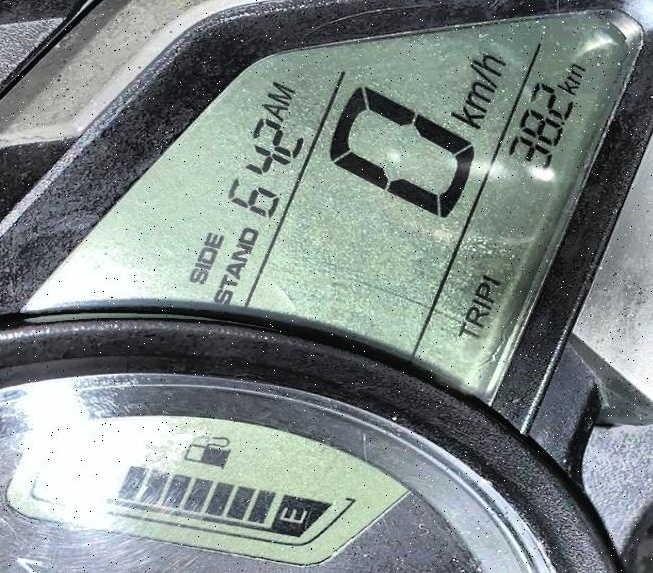-: (558, 120, 565, 124)
1: (478, 274, 501, 285)
2: (247, 119, 307, 154), (523, 82, 572, 119)
3: (505, 136, 551, 166)
4: (236, 142, 289, 175)
6: (219, 175, 280, 217)
8: (517, 108, 562, 143)
X: (467, 52, 510, 73), (460, 84, 491, 110), (447, 107, 485, 127), (262, 81, 296, 102), (466, 70, 497, 87), (226, 243, 255, 261), (258, 103, 287, 119), (470, 281, 493, 300), (461, 308, 487, 324), (235, 226, 258, 243), (563, 63, 583, 82), (221, 262, 246, 277), (210, 290, 233, 306), (194, 247, 216, 263), (200, 231, 222, 247), (454, 323, 476, 338), (216, 273, 237, 288), (185, 270, 207, 283), (468, 298, 490, 309), (555, 82, 579, 92), (189, 262, 212, 269)
